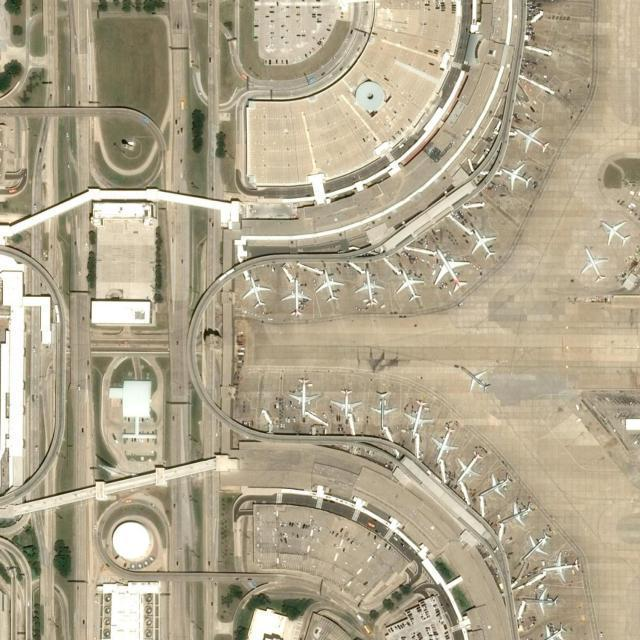Aircraft: (434, 250, 468, 291), (541, 552, 583, 581), (513, 123, 553, 153), (403, 400, 433, 436), (282, 280, 312, 316), (288, 379, 316, 417), (429, 428, 458, 464), (478, 474, 518, 500), (579, 246, 607, 283), (240, 277, 272, 309), (458, 362, 492, 391), (355, 273, 385, 305), (369, 390, 395, 426), (315, 271, 345, 301), (600, 218, 630, 248), (332, 389, 361, 419), (454, 452, 482, 482), (396, 272, 424, 302), (500, 502, 536, 525), (500, 163, 534, 187), (470, 230, 496, 260), (523, 535, 551, 560)
